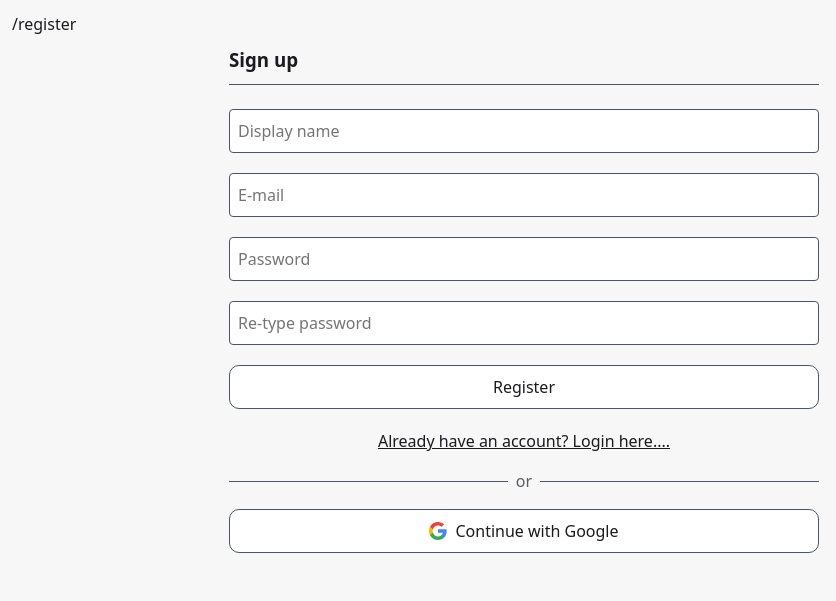
Test: RegisterPage › clears a field's server error when its value changes
The width and height of the screenshot is (836, 601).
Type "Ada" into the field labelled "Display name" at x=524, y=131, box [229,109,819,153]
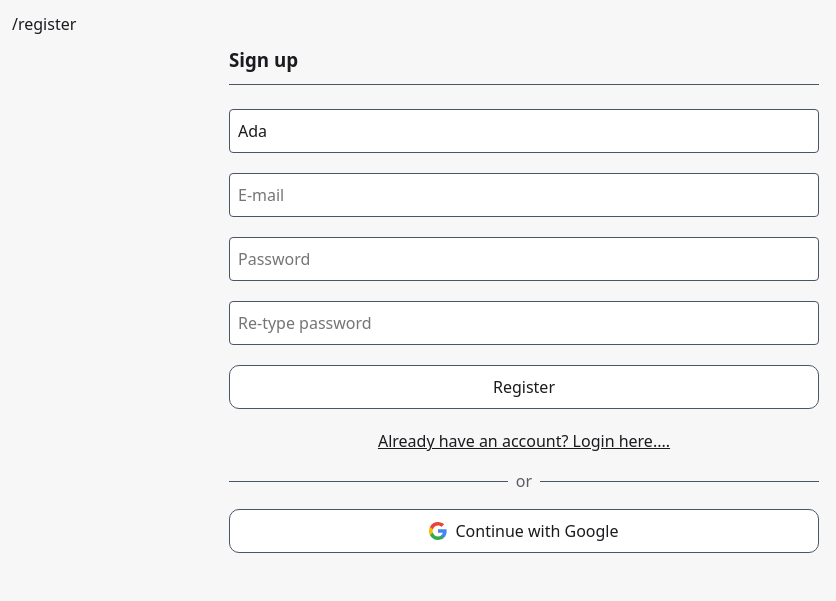
Type "ada@example.com" into the field labelled "E-mail" at x=524, y=195, box [229,173,819,217]
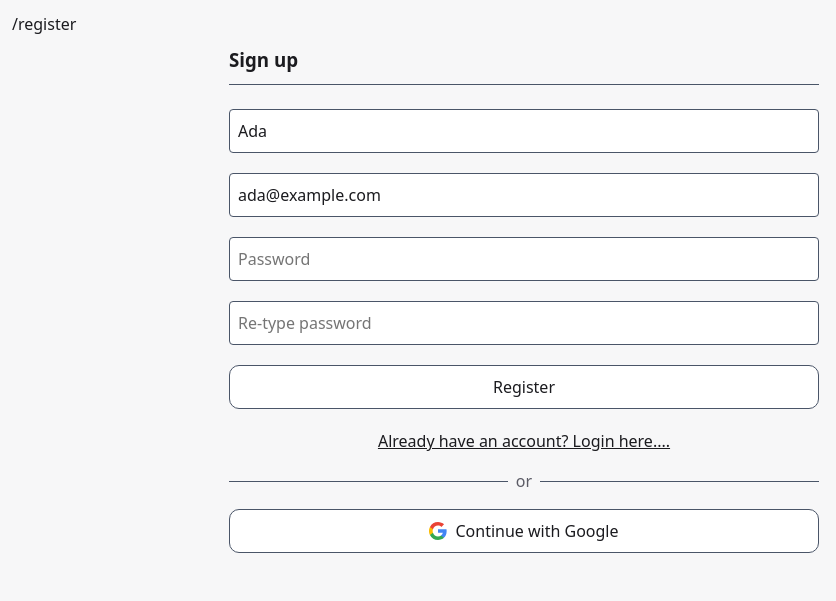
Type "Password1" into the password field labelled "Password" at x=524, y=259, box [229,237,819,281]
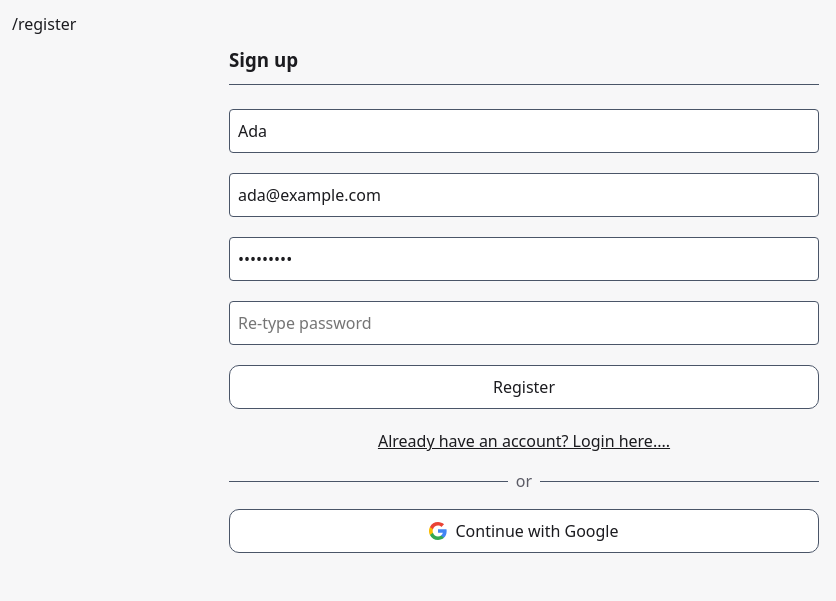
Type "Password1" into the password field labelled "Re-type password" at x=524, y=323, box [229,301,819,345]
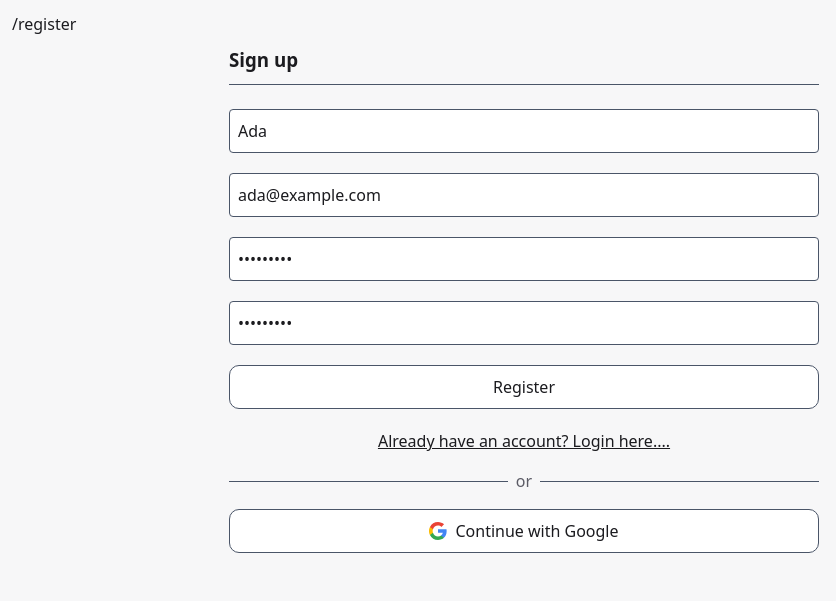
Click the button "Register" at x=524, y=387, box [229,365,819,409]
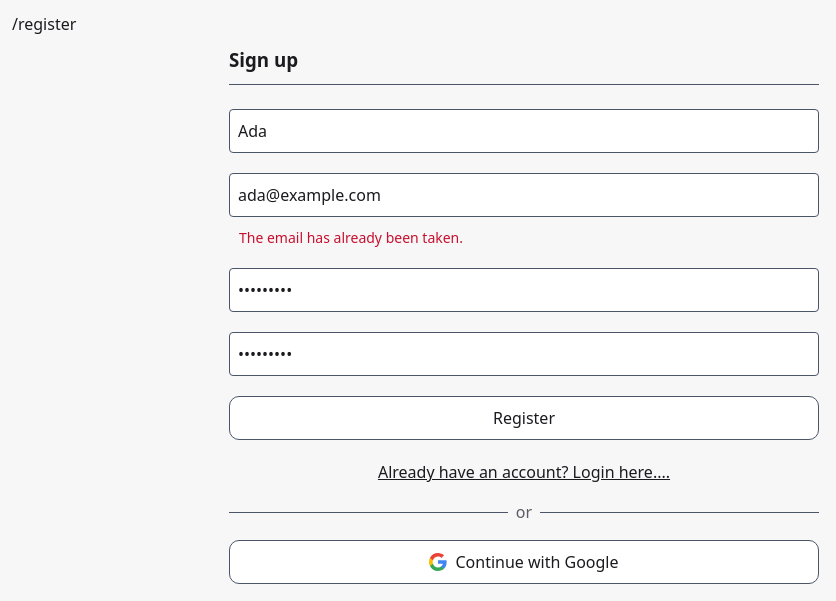
Check: the text "The email has already been taken." is shown, box [239,228,463,247]
Replace the text in the 2nd field named "E-mail" with "ada2@example.com" at x=524, y=195, box [229,173,819,217]
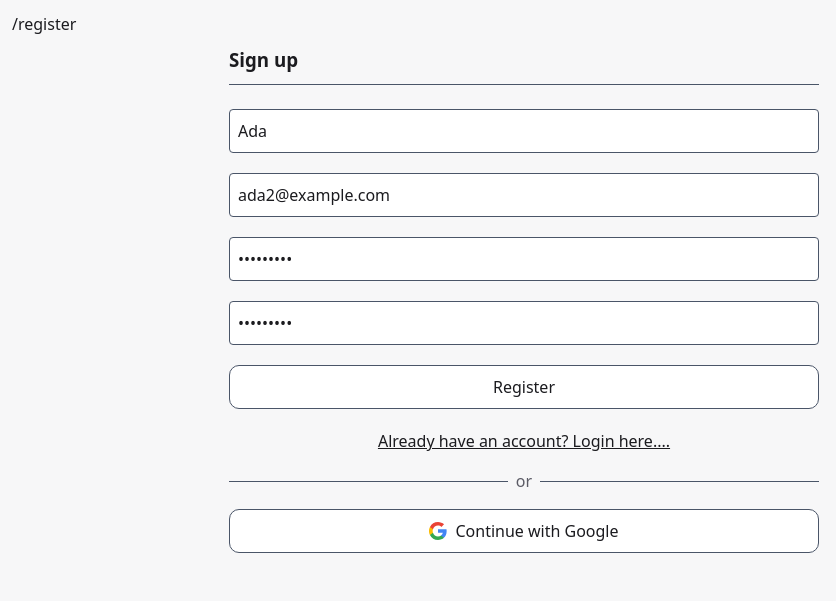
Check: the text "The email has already been taken." is gone
